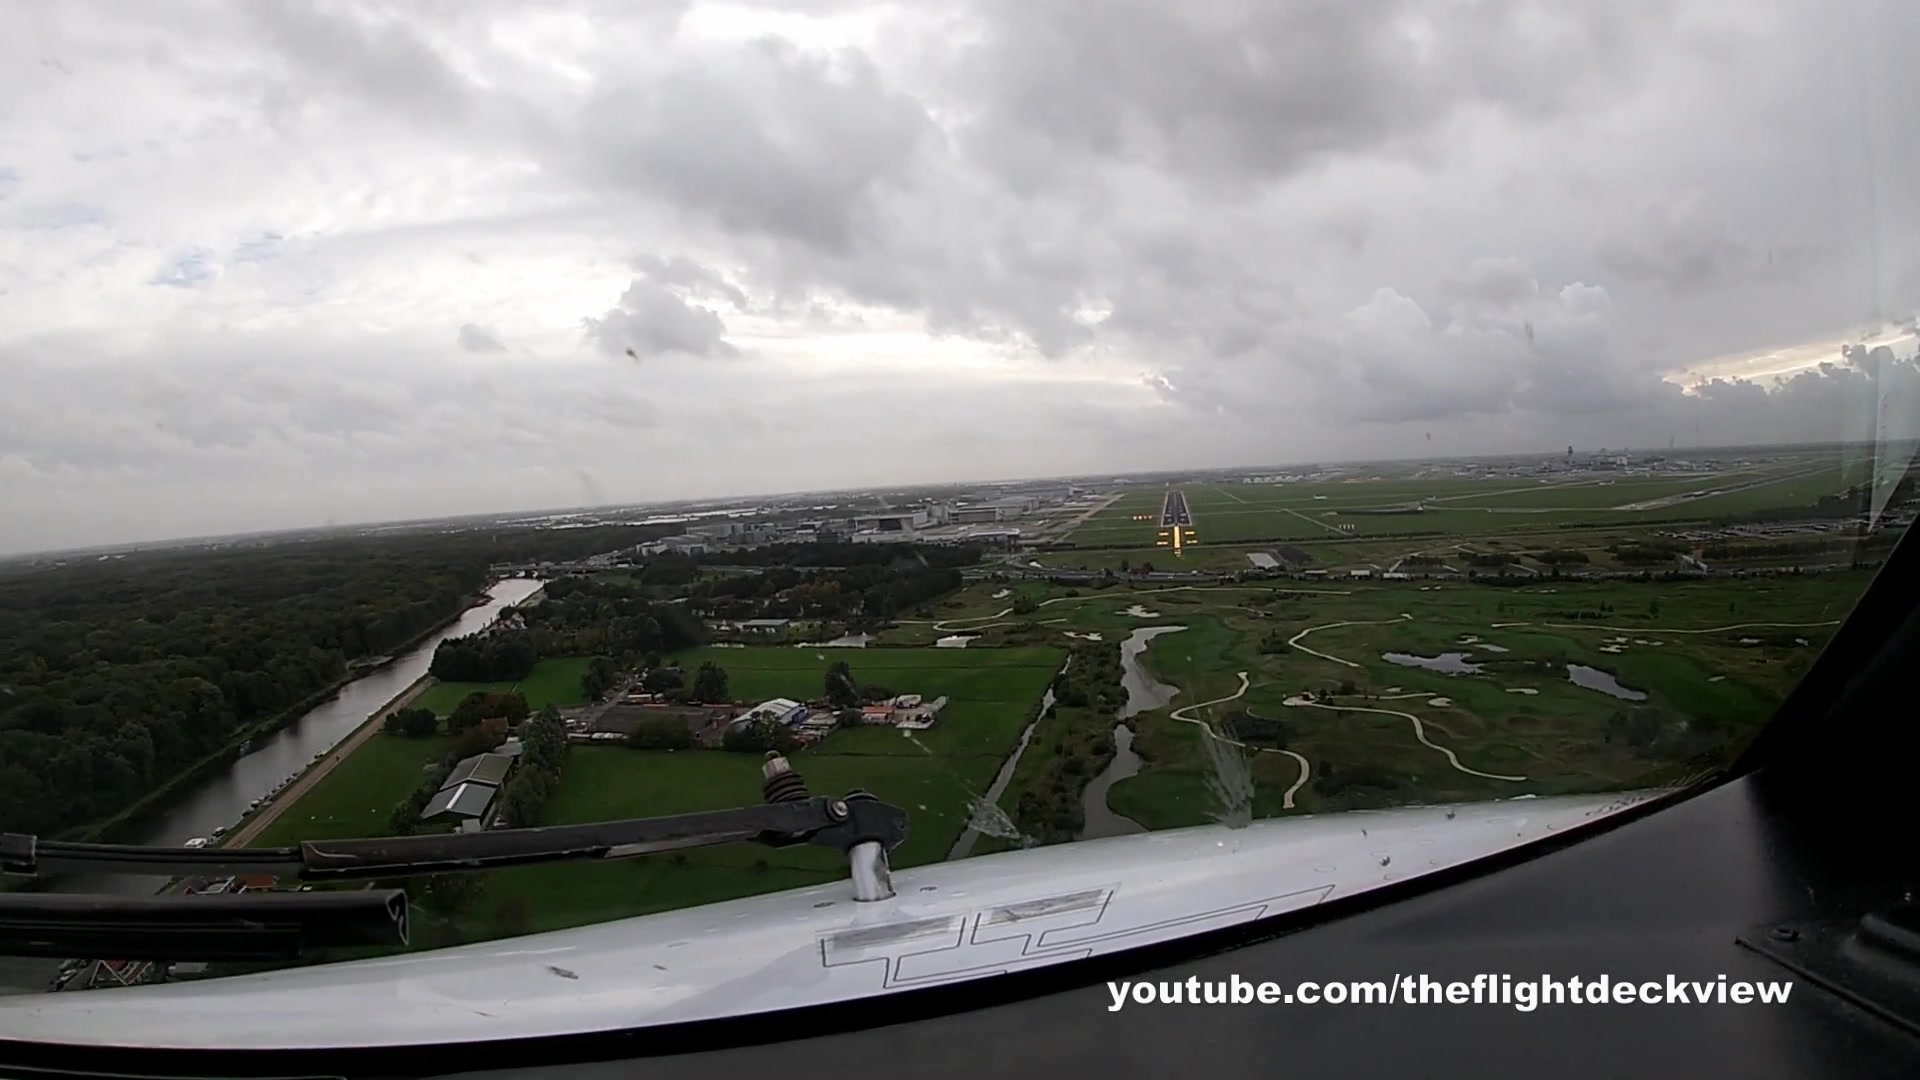runway: (1156, 492, 1193, 527)
